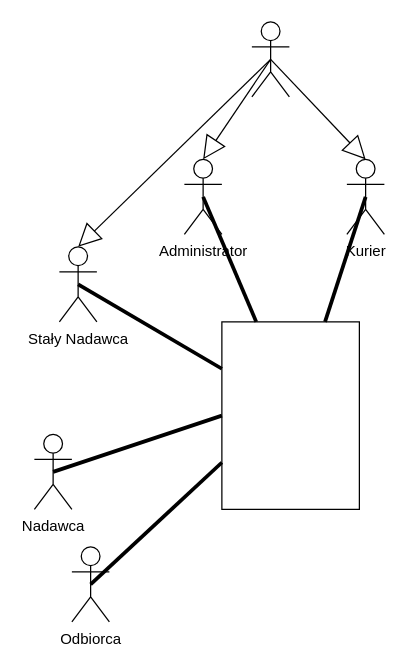
The diagram is 410 pixels wide and 670 high, and some of its shapes have lost their labels. The shapes that lost their labels are listed below. From the top down, each one's box as (x1, y1, x2, y2) in pixels, then its label:
(251, 21, 289, 97): Użytkownik
(221, 321, 359, 509): System Zarządzania Przesyłkami Kurierskimi
